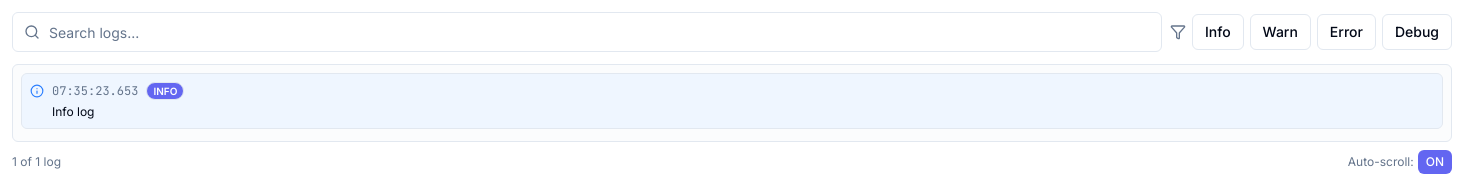
Scenario: LogViewer › should show 'no logs match filters' when filtered to empty
In the field with placeholder "Search logs...": (587, 32) [12,12,1162,52], type "nonexistent"
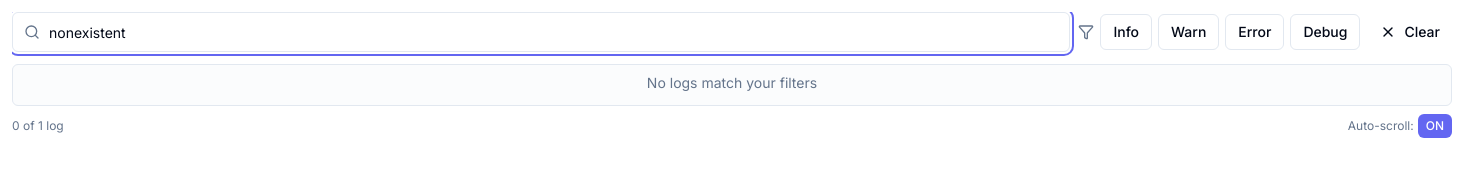
Expected: the text "No logs match your filters" is shown, [647,74,817,91]
